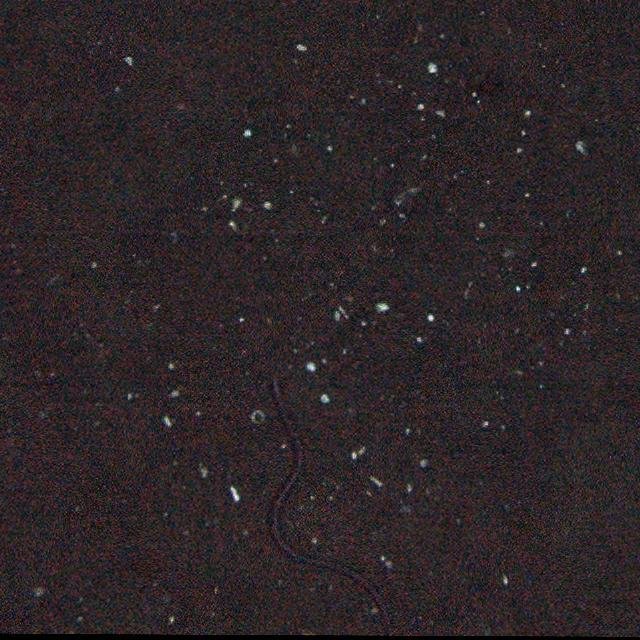eel: (262, 376, 400, 636)
